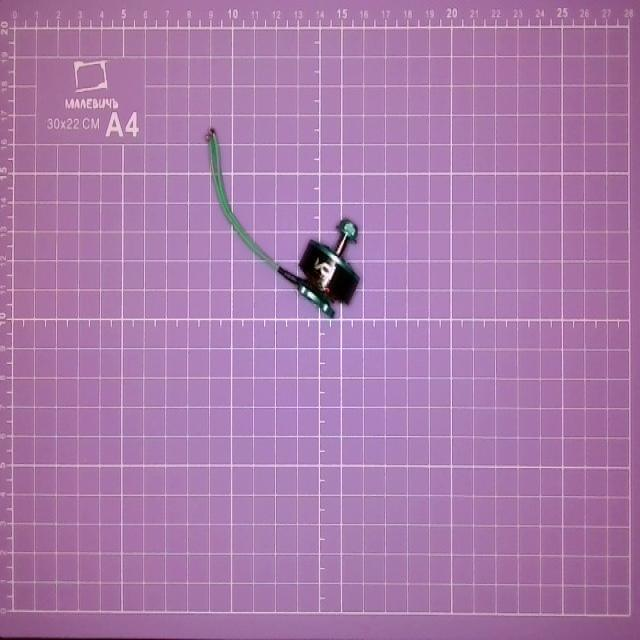motor: (205, 125, 362, 317)
